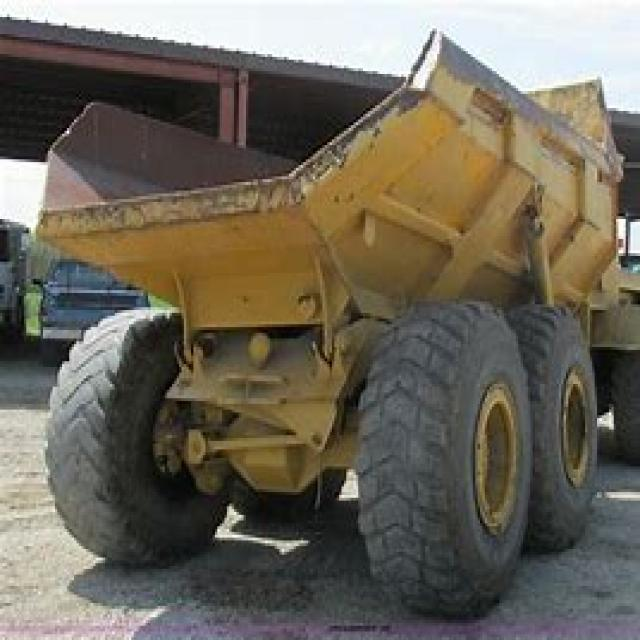dump_truck: (12, 26, 635, 603)
